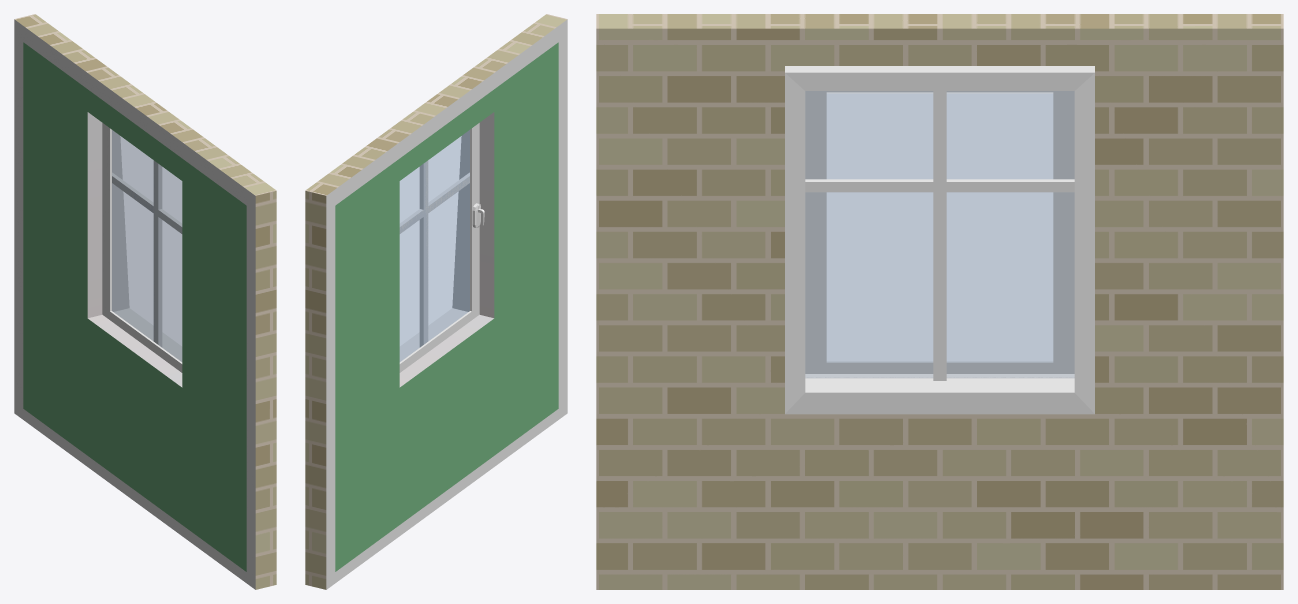
The model's file is Window top A.fbx.
3 renders of one model, left to right at view 1: azimuth 30°, elevation 25°; view 2: azimuth 150°, elevation 25°; view 3: azimuth 270°, elevation 25°, orthographic. The views are drawn at different scales.
Parts seen in each view (by area): view 1: Window-Top A; view 2: Window-Top A; view 3: Window-Top A.
Part boxes in pixels (box(x1,y1,x2,y2)): Window-Top A: box(14, 14, 276, 589); Window-Top A: box(305, 14, 567, 589); Window-Top A: box(596, 14, 1283, 589).
Bounding box in the file's own units: 80.47 × 721 × 800.
